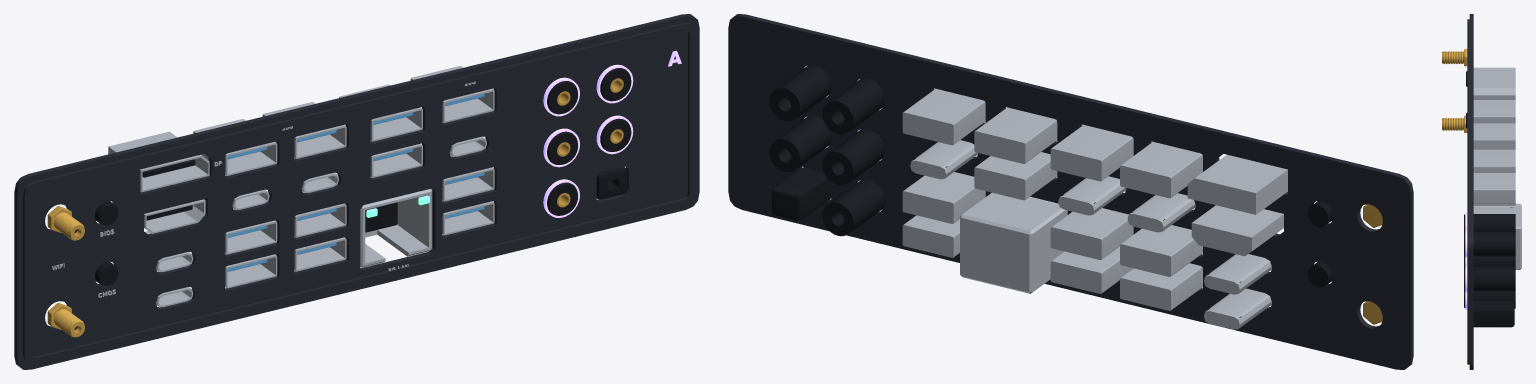
The model's file is IoShield.glb.
The picture shows the model from 3 angles, left to right: view 1: azimuth 30°, elevation 25°; view 2: azimuth 150°, elevation 25°; view 3: azimuth 270°, elevation 25°; orthographic projection. The views are drawn at different scales.
Visible parts, largest first — view 1: Plate__Metal__2A2D38, Shells__Metal__B8BEC8, Plastic__SmoothPlastic__16181E, Gold__Foil__D4A64A, Accent__Neon__8B7CFF, Tongues__SmoothPlastic__63B3ED; view 2: Plate__Metal__2A2D38, Shells__Metal__B8BEC8, Plastic__SmoothPlastic__16181E, Gold__Foil__D4A64A; view 3: Shells__Metal__B8BEC8, Plastic__SmoothPlastic__16181E, Plate__Metal__2A2D38, Gold__Foil__D4A64A, Accent__Neon__8B7CFF.
Boxes of the visible parts, x1,y1,x2,y2 form: Plate__Metal__2A2D38: (14, 14, 699, 369); Shells__Metal__B8BEC8: (52, 66, 494, 307); Plastic__SmoothPlastic__16181E: (74, 66, 631, 329); Gold__Foil__D4A64A: (47, 78, 623, 337); Accent__Neon__8B7CFF: (543, 51, 681, 217); Tongues__SmoothPlastic__63B3ED: (227, 93, 484, 271); Plate__Metal__2A2D38: (728, 14, 1413, 369); Shells__Metal__B8BEC8: (902, 88, 1287, 329); Plastic__SmoothPlastic__16181E: (769, 65, 1332, 317); Gold__Foil__D4A64A: (1363, 204, 1382, 324); Shells__Metal__B8BEC8: (1473, 67, 1521, 269); Plastic__SmoothPlastic__16181E: (1464, 71, 1515, 327); Plate__Metal__2A2D38: (1467, 14, 1473, 369); Gold__Foil__D4A64A: (1442, 49, 1467, 132); Accent__Neon__8B7CFF: (1465, 212, 1467, 309).
Bounding box in the file's own units: 59 × 16 × 8.7.
